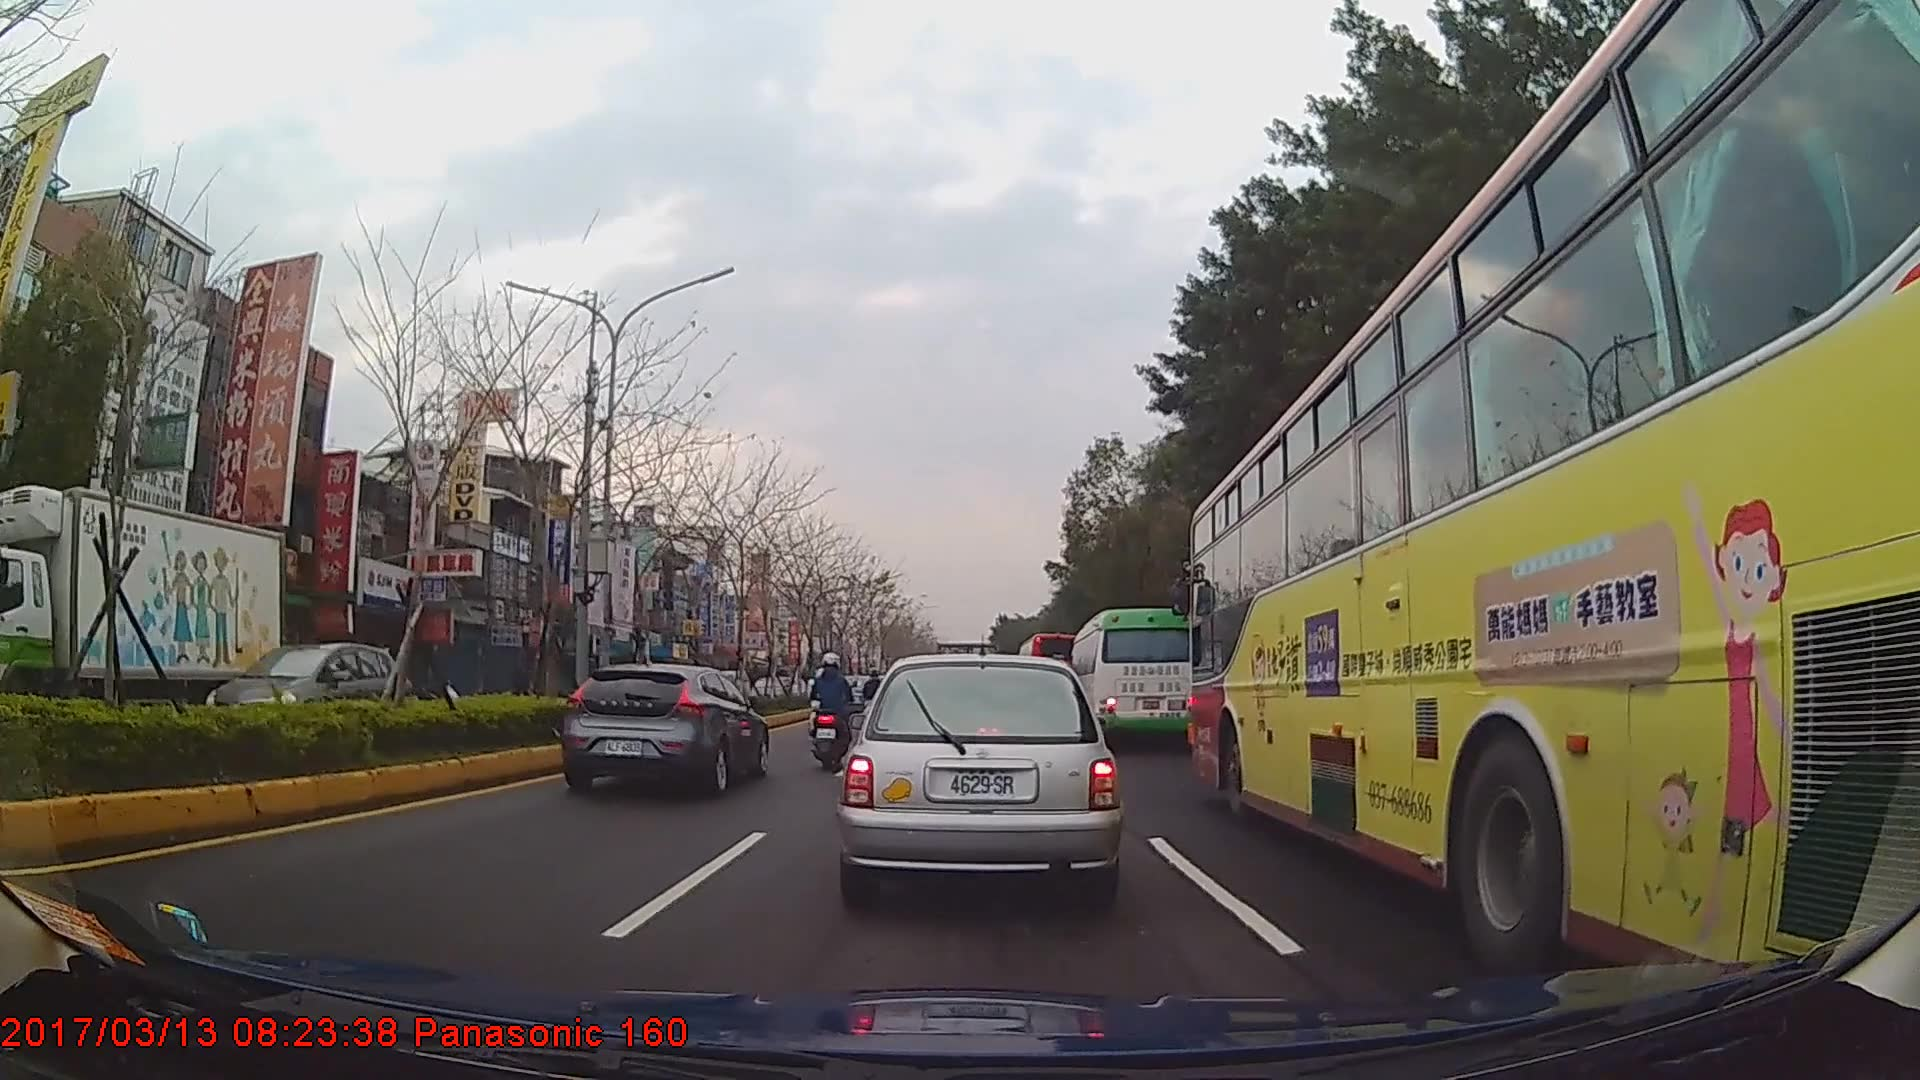rider: (809, 654, 857, 759), (863, 671, 885, 738)
vehicle: (1186, 0, 1920, 1026), (836, 651, 1119, 913), (0, 484, 281, 747), (561, 659, 771, 798), (203, 641, 409, 747), (1068, 607, 1198, 749), (1014, 633, 1083, 708)
